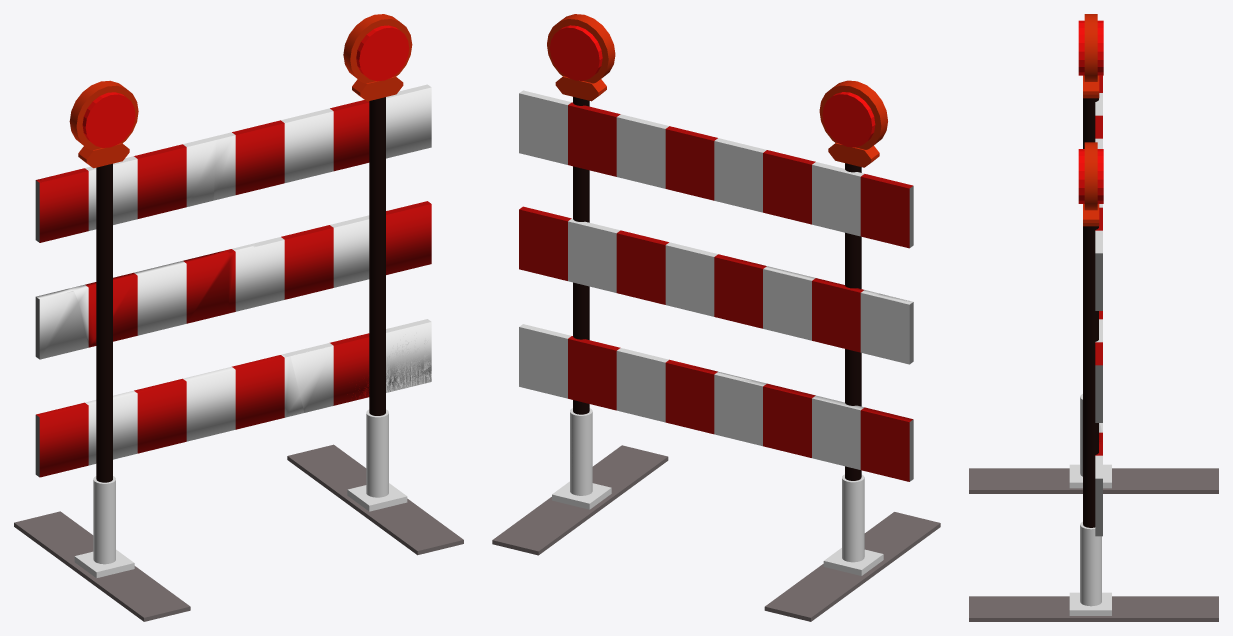
The model's file is Road Barrier_.fbx.
The picture shows the model from 3 angles, left to right: view 1: azimuth 30°, elevation 25°; view 2: azimuth 150°, elevation 25°; view 3: azimuth 270°, elevation 25°; orthographic projection. The views are drawn at different scales.
Parts seen in each view (by area): view 1: Main_Bariier, Object005_Part_2, Object003_Part_2, Object004_Part_1, Object003_Part_1, Object004_Part_2, Object005_Part_1, break1, Object004_Part_3; view 2: Main_Bariier, Object005_Part_2, Object004_Part_2; view 3: Main_Bariier, break1, Object005_Part_1, Object003_Part_2, Object004_Part_1.
Boxes of the visible parts, <box> form: Main_Bariier: <box>14,14,463,621</box>; Object005_Part_2: <box>36,354,304,477</box>; Object003_Part_2: <box>213,87,431,200</box>; Object004_Part_1: <box>227,204,431,313</box>; Object003_Part_1: <box>36,140,216,242</box>; Object004_Part_2: <box>70,250,229,343</box>; Object005_Part_1: <box>290,322,431,412</box>; break1: <box>350,19,412,101</box>; Object004_Part_3: <box>36,288,96,359</box>; Main_Bariier: <box>492,14,940,621</box>; Object005_Part_2: <box>663,358,912,421</box>; Object004_Part_2: <box>720,256,878,296</box>; Main_Bariier: <box>969,14,1218,621</box>; break1: <box>1078,159,1103,226</box>; Object005_Part_1: <box>1095,423,1102,536</box>; Object003_Part_2: <box>1095,253,1102,310</box>; Object004_Part_1: <box>1095,365,1102,422</box>.
Size of the model in its own units: 144 by 170 by 82.63.
